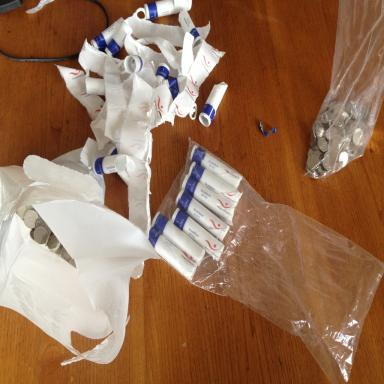plasticbag: (192, 166, 384, 384)
